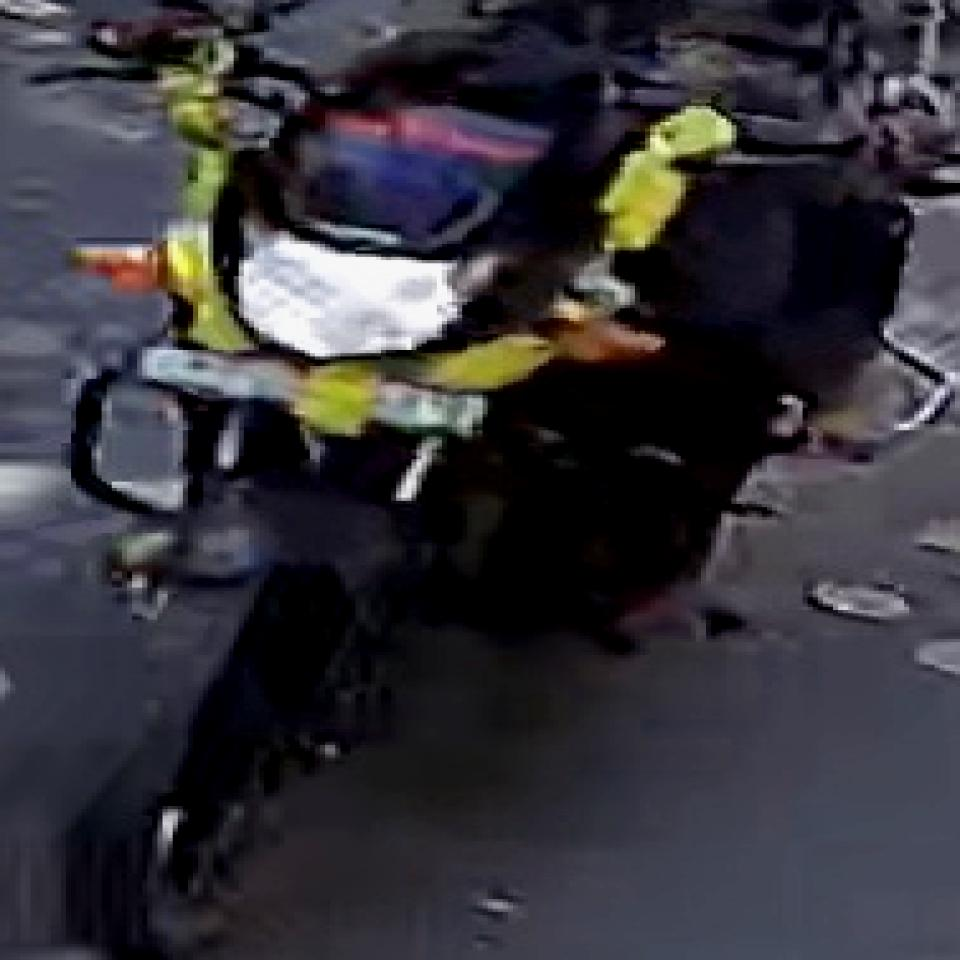head_light: (237, 199, 502, 359)
